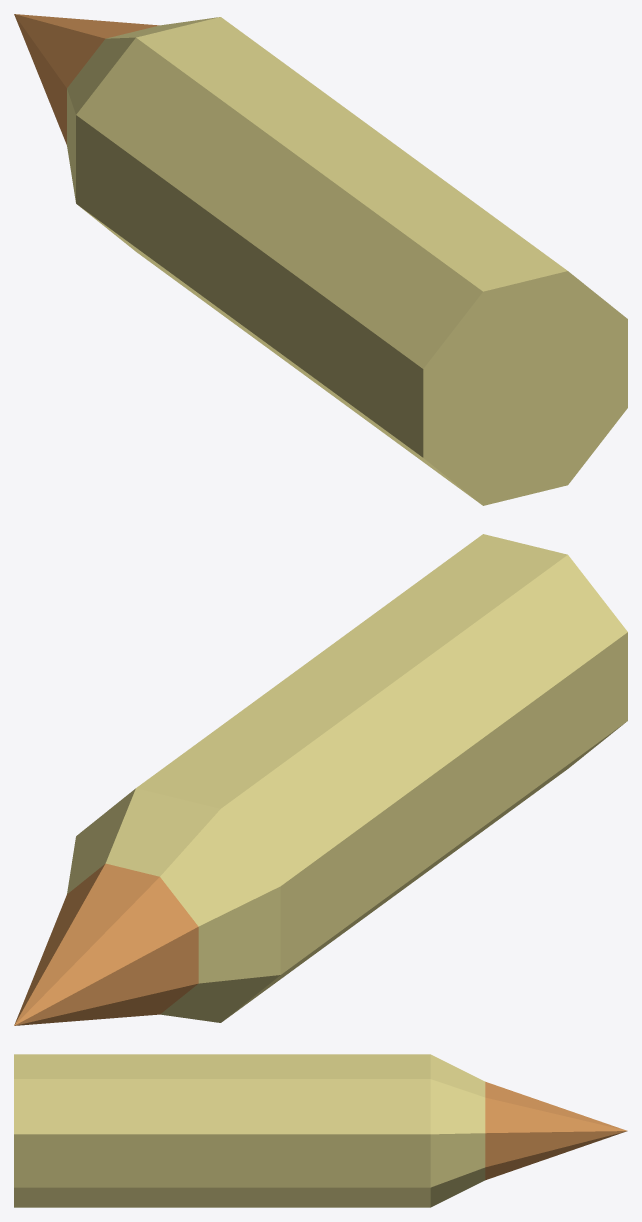
File: ce_ammo_rifle_fmj_a.obj
The picture shows the model from 3 angles, top to bottom: view 1: azimuth 30°, elevation 25°; view 2: azimuth 150°, elevation 25°; view 3: azimuth 270°, elevation 25°; orthographic projection. The views are drawn at different scales.
Parts seen in each view (by area): view 1: ce_ammo_rifle_fmj_a_0, ce_ammo_rifle_fmj_a_2, ce_ammo_rifle_fmj_a_1; view 2: ce_ammo_rifle_fmj_a_0, ce_ammo_rifle_fmj_a_1, ce_ammo_rifle_fmj_a_2; view 3: ce_ammo_rifle_fmj_a_0, ce_ammo_rifle_fmj_a_2, ce_ammo_rifle_fmj_a_1.
Boxes of the visible parts, <box> form: ce_ammo_rifle_fmj_a_0: <box>76,17,627,505</box>; ce_ammo_rifle_fmj_a_2: <box>14,14,159,144</box>; ce_ammo_rifle_fmj_a_1: <box>67,17,219,201</box>; ce_ammo_rifle_fmj_a_0: <box>136,534,627,1020</box>; ce_ammo_rifle_fmj_a_1: <box>67,788,280,1022</box>; ce_ammo_rifle_fmj_a_2: <box>14,863,198,1025</box>; ce_ammo_rifle_fmj_a_0: <box>14,1054,430,1207</box>; ce_ammo_rifle_fmj_a_2: <box>485,1081,627,1180</box>; ce_ammo_rifle_fmj_a_1: <box>430,1054,485,1207</box>.
Size of the model in its own units: 0.1294 by 0.1294 by 0.56.
